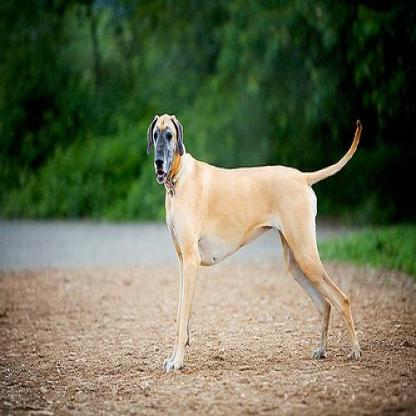Great_Dane: (145, 109, 364, 374)
